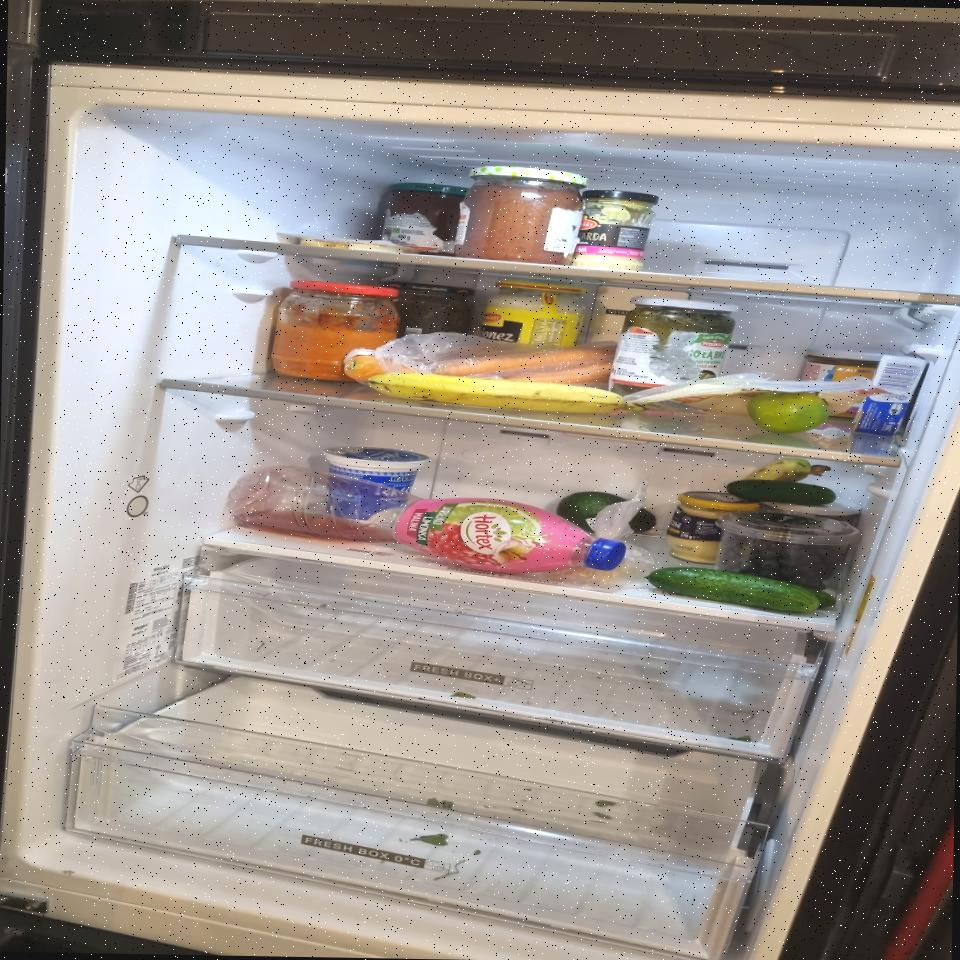Aguacate: (556, 491, 658, 534)
Mantequilla: (852, 352, 931, 437)
Pepino: (644, 566, 837, 614), (726, 479, 838, 507)
Plátano: (365, 372, 650, 416), (743, 458, 831, 482)
Yogur: (320, 446, 432, 528)
Zanahoria: (342, 339, 620, 388)
